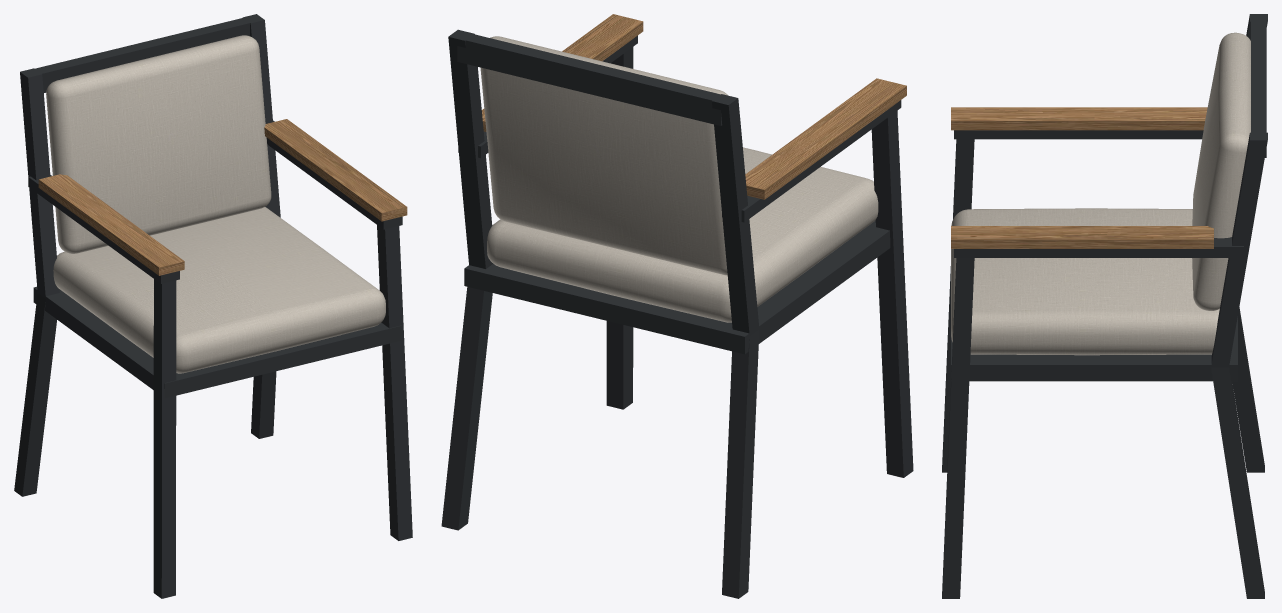
Rendered from chair.glb.
The picture shows the model from 3 angles, left to right: view 1: azimuth 30°, elevation 25°; view 2: azimuth 150°, elevation 25°; view 3: azimuth 270°, elevation 25°; orthographic projection. The views are drawn at different scales.
Visible parts, largest first — view 1: fabric.001, frame.003, teak.001; view 2: frame.003, fabric.001, teak.001; view 3: fabric.001, frame.003, teak.001.
Part boxes in pixels (x1,y1,x2,y2): fabric.001: [46, 35, 385, 373]; frame.003: [14, 14, 412, 598]; teak.001: [38, 119, 407, 275]; frame.003: [441, 29, 913, 598]; fabric.001: [480, 36, 878, 322]; teak.001: [481, 14, 906, 199]; fabric.001: [951, 32, 1250, 355]; frame.003: [942, 14, 1267, 598]; teak.001: [951, 107, 1213, 248].
Bounding box in the file's own units: 0.53 × 0.84 × 0.545.
3 materials, 2 textured.
